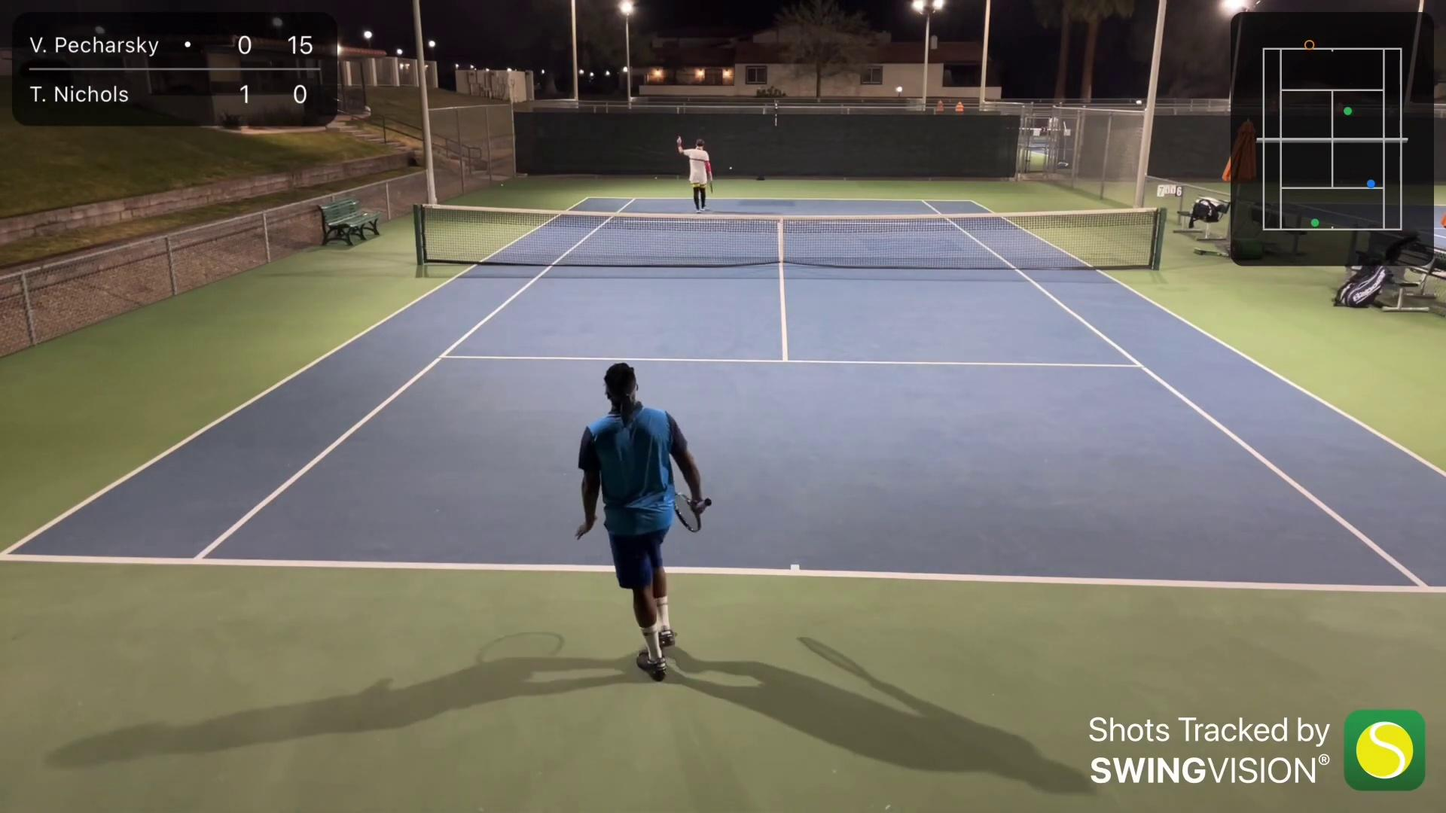ball: (496, 181, 508, 188), (728, 164, 735, 172), (653, 176, 660, 181)
